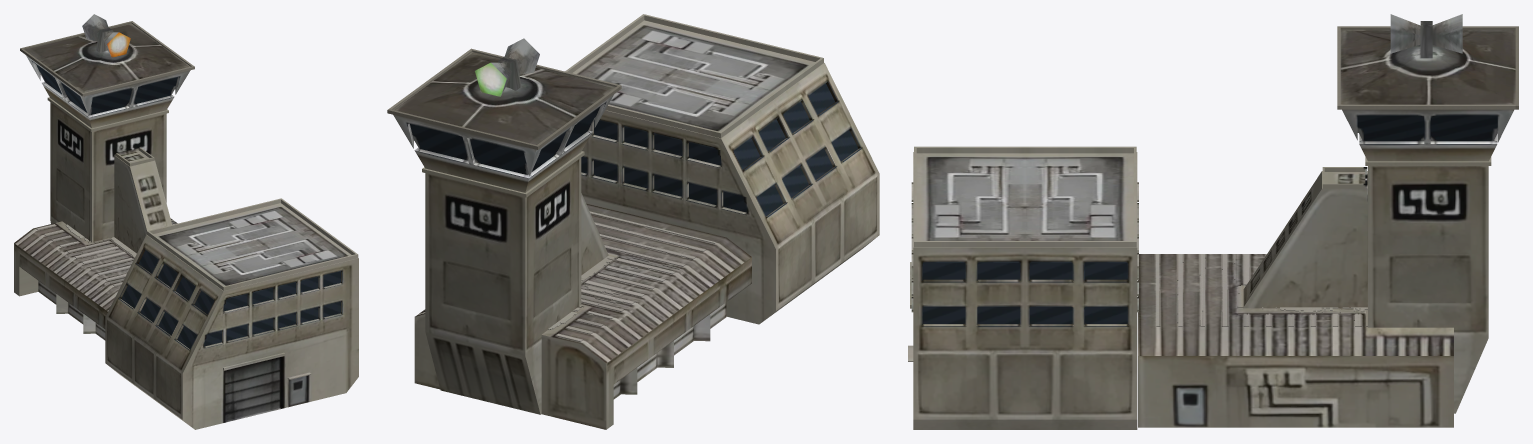
Rendered from trafcon2_cad.glb.
3 views of the same model, side by side, from view 1: azimuth 30°, elevation 25°; view 2: azimuth 150°, elevation 25°; view 3: azimuth 270°, elevation 25° (orthographic). The views are drawn at different scales.
Visible parts, largest first — view 1: Trafcon2, Spinny; view 2: Trafcon2, Spinny; view 3: Trafcon2, Spinny.
Boxes of the visible parts, bbox=[...] form: Trafcon2: bbox=[14, 21, 358, 429]; Spinny: bbox=[82, 14, 130, 57]; Trafcon2: bbox=[387, 14, 879, 429]; Spinny: bbox=[475, 38, 539, 96]; Trafcon2: bbox=[908, 26, 1518, 429]; Spinny: bbox=[1390, 14, 1462, 58].
Size of the model in its own units: 22.51 by 31.08 by 46.32.
2 materials, 2 textured.
